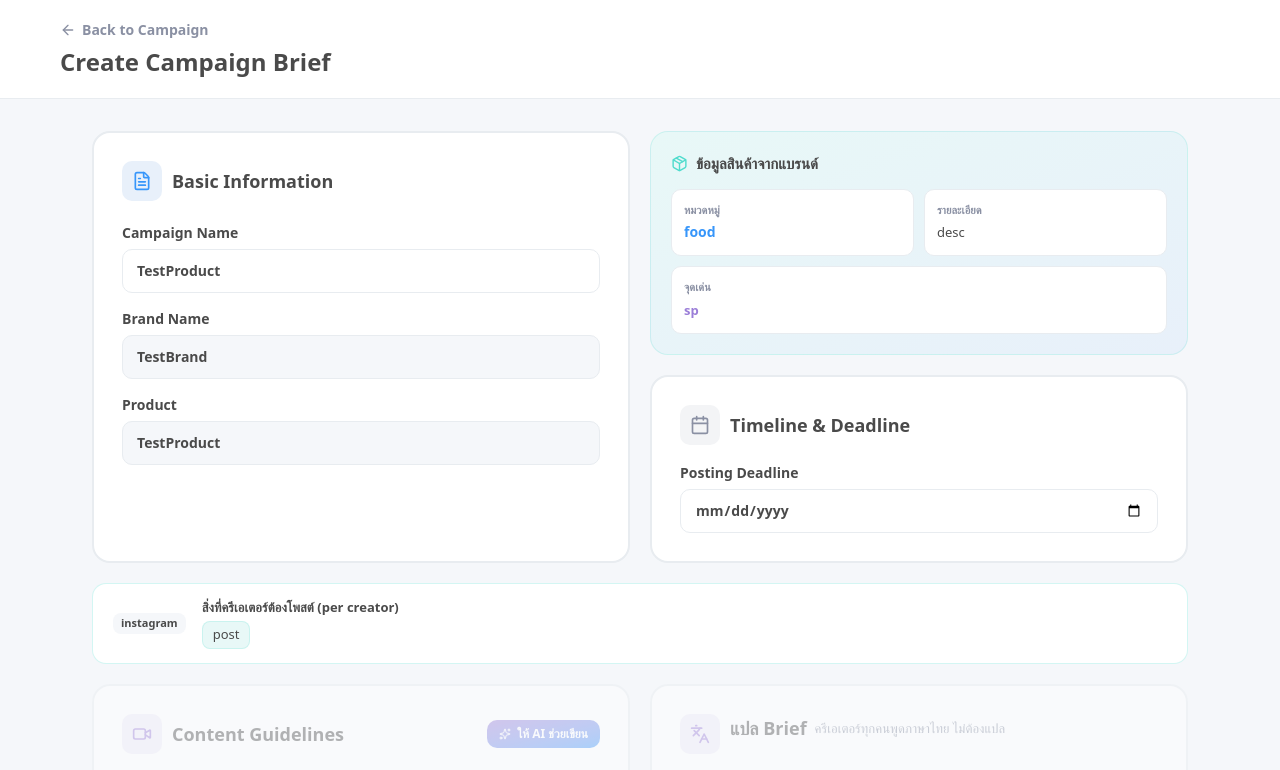
Scenario: CreateBriefPage — AI prompt dialog › shows error message on AI failure
Click the button "ให้ AI ช่วยเขียน": (544, 734) [487,720,600,748]
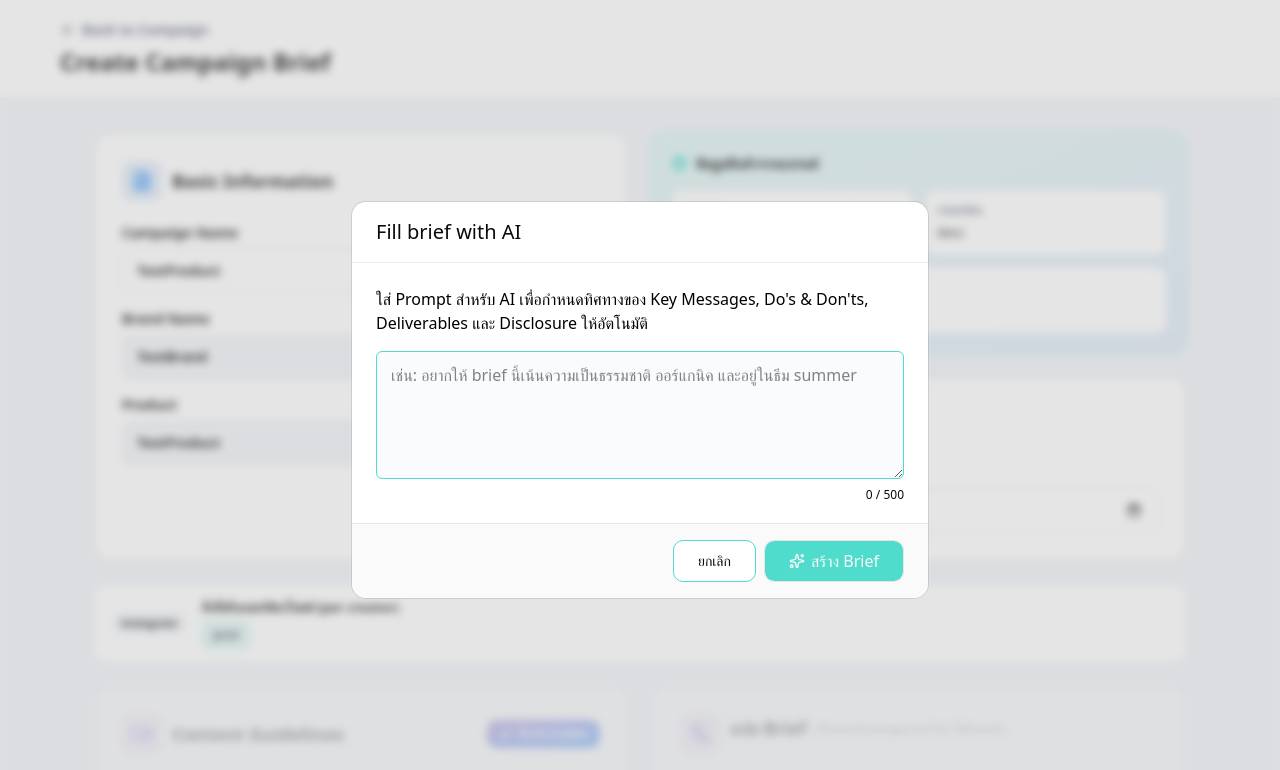
Expected: the text "Fill brief with AI" is shown, [376,218,521,245]
Click the button "สร้าง Brief": (834, 561) [764,540,904,582]
(page scrolled)
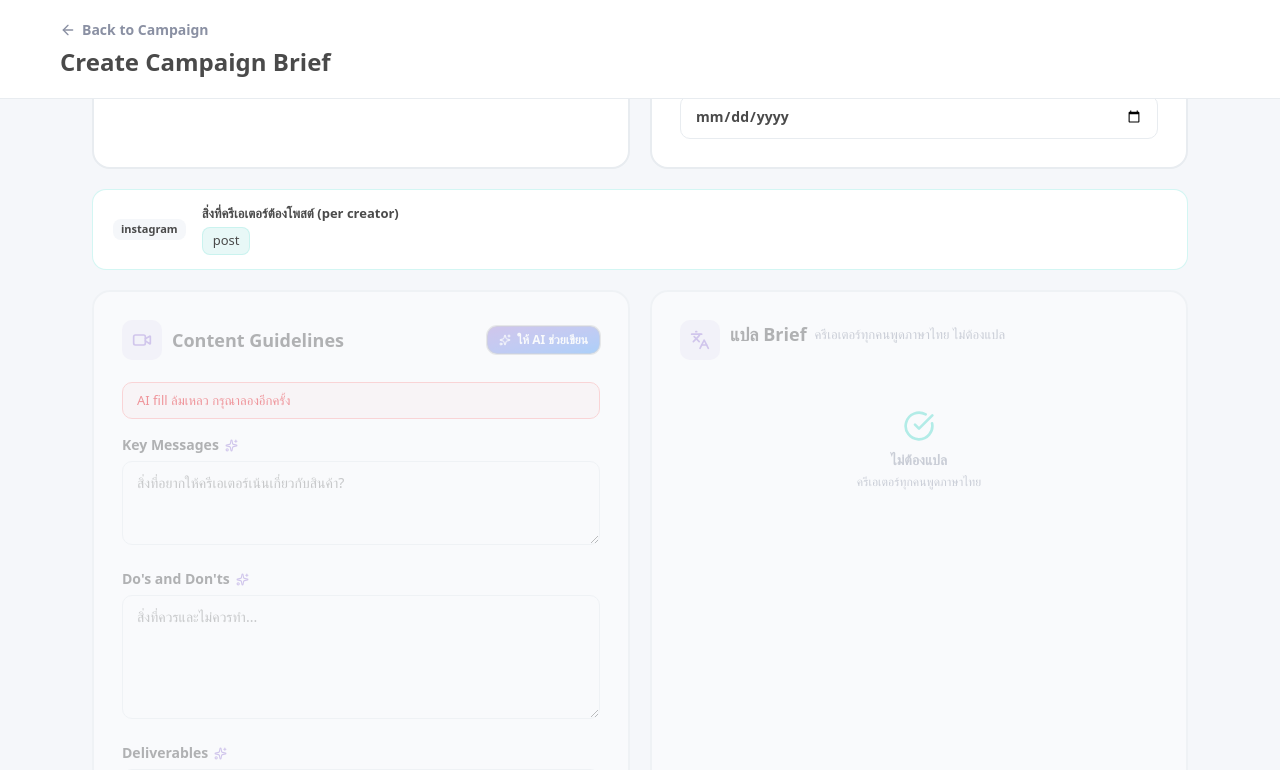
Expected: the text "AI fill ล้มเหลว กรุณาลองอีกครั้ง" is shown, [122,382,600,419]
